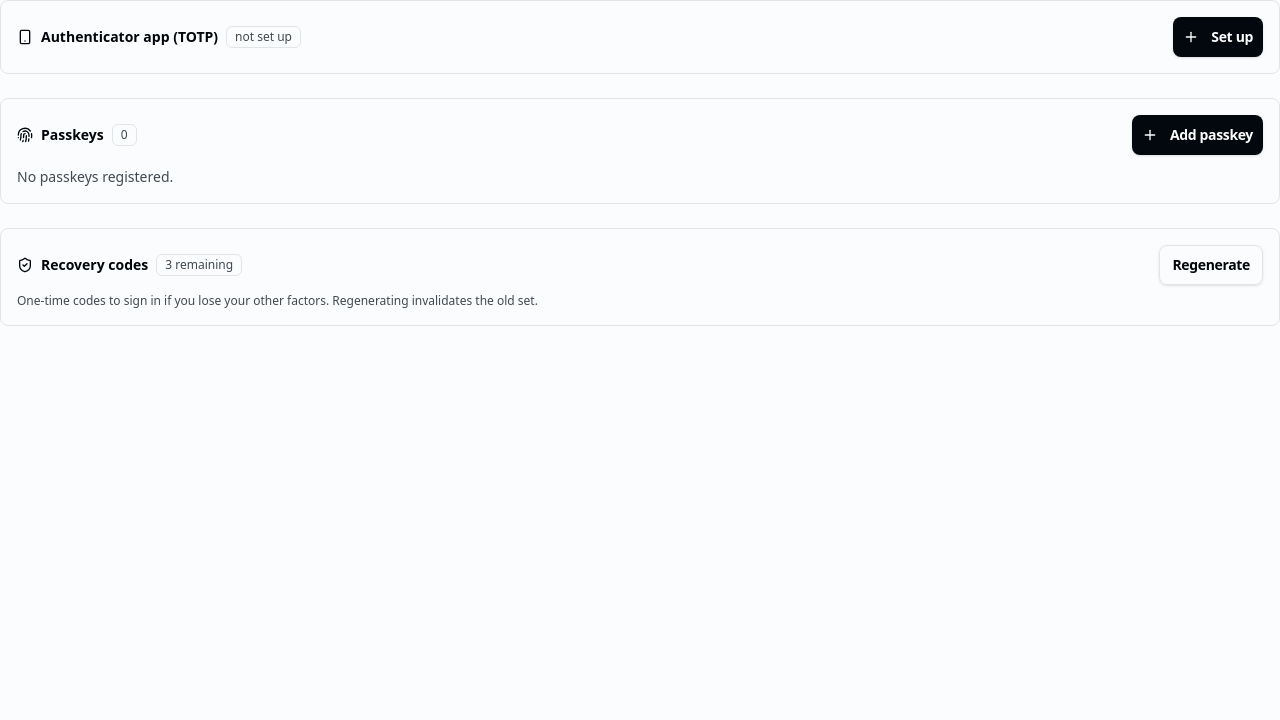
MfaManagementWorkspace › regenerates recovery codes and shows them once
Click the button "Regenerate" at (1211, 265), box left=1160, top=245, right=1263, bottom=285
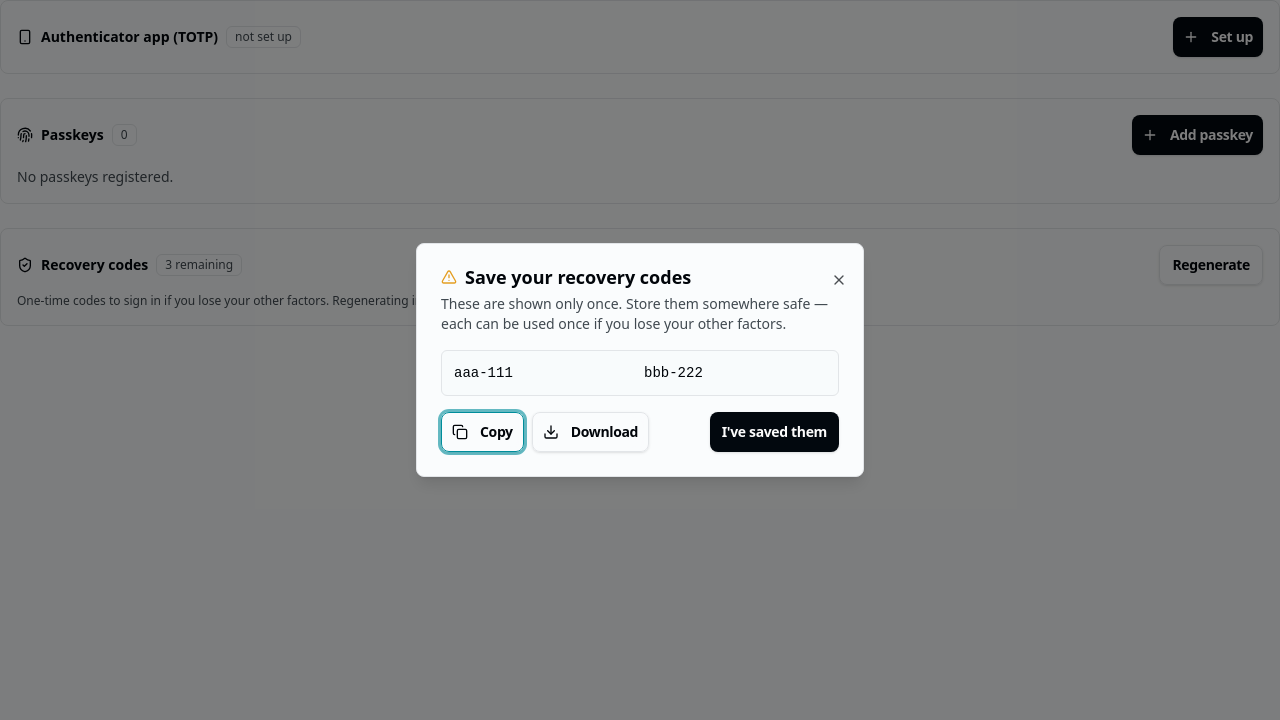
Now the text "aaa-111" is shown, box left=454, top=365, right=513, bottom=381
Now the heading "Save your recovery codes" is shown, box left=441, top=265, right=691, bottom=289
Now the text "bbb-222" is shown, box left=644, top=365, right=703, bottom=381
